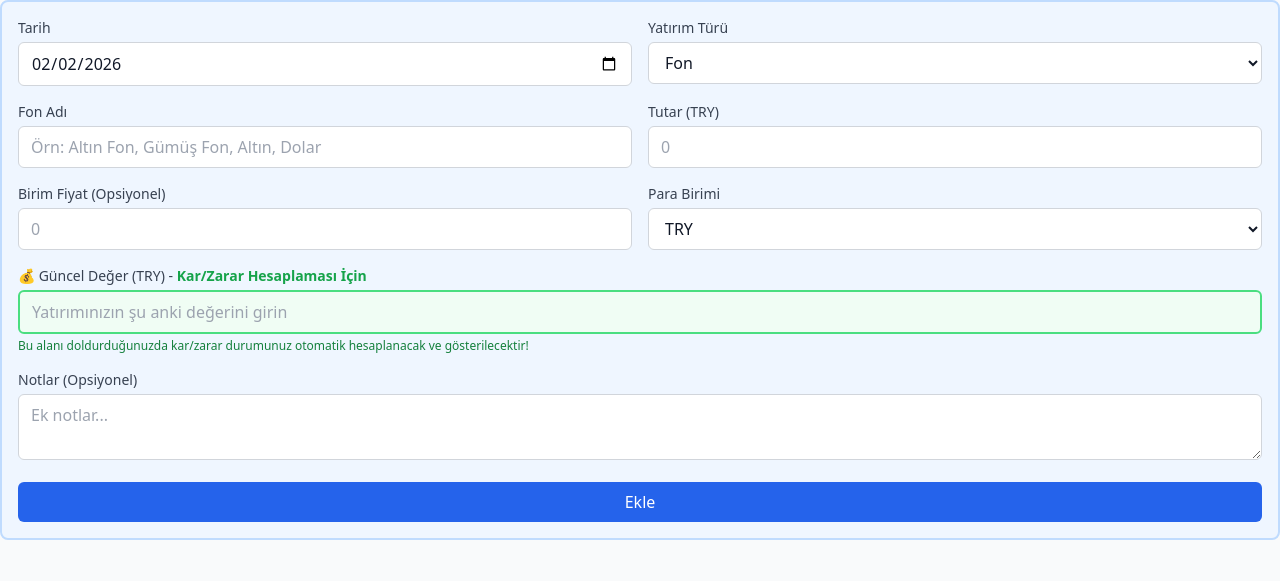
Test: InvestmentForm › should show validation errors for invalid input
The image size is (1280, 581).
Clear required fields to trigger validation
Step 1. Clear the field with placeholder "Örn: Altın Fon, Gümüş Fon, Altın, Dolar" → (325, 147), box [18,126,632,168]
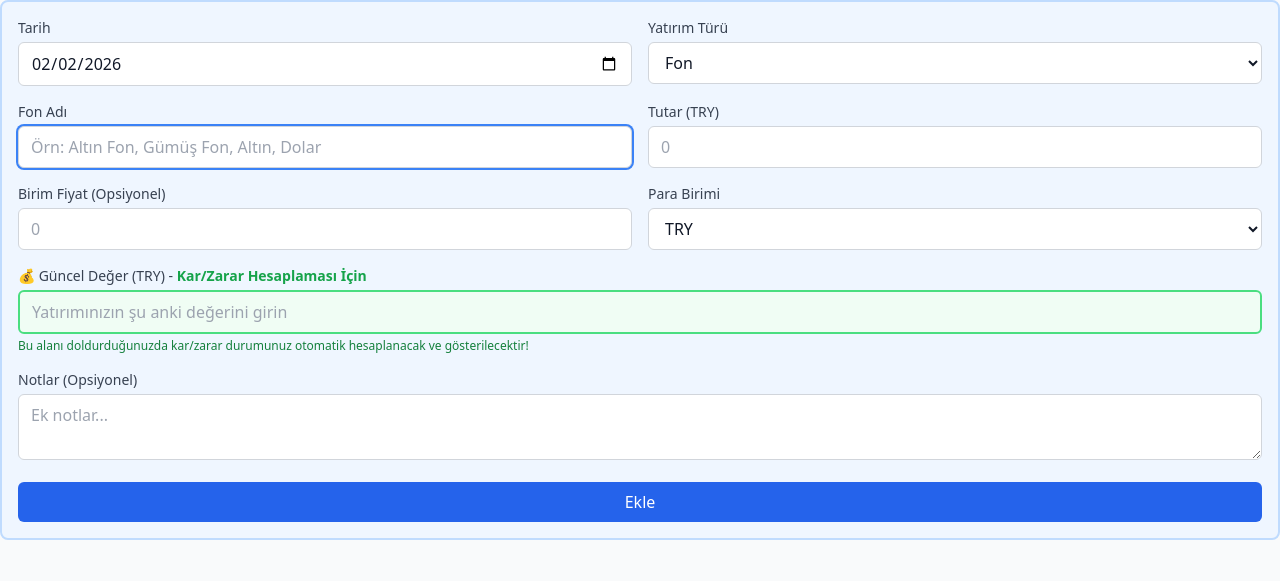
Step 2. Clear the number field labelled "Tutar (TRY)" → (955, 147), box [648,126,1262,168]
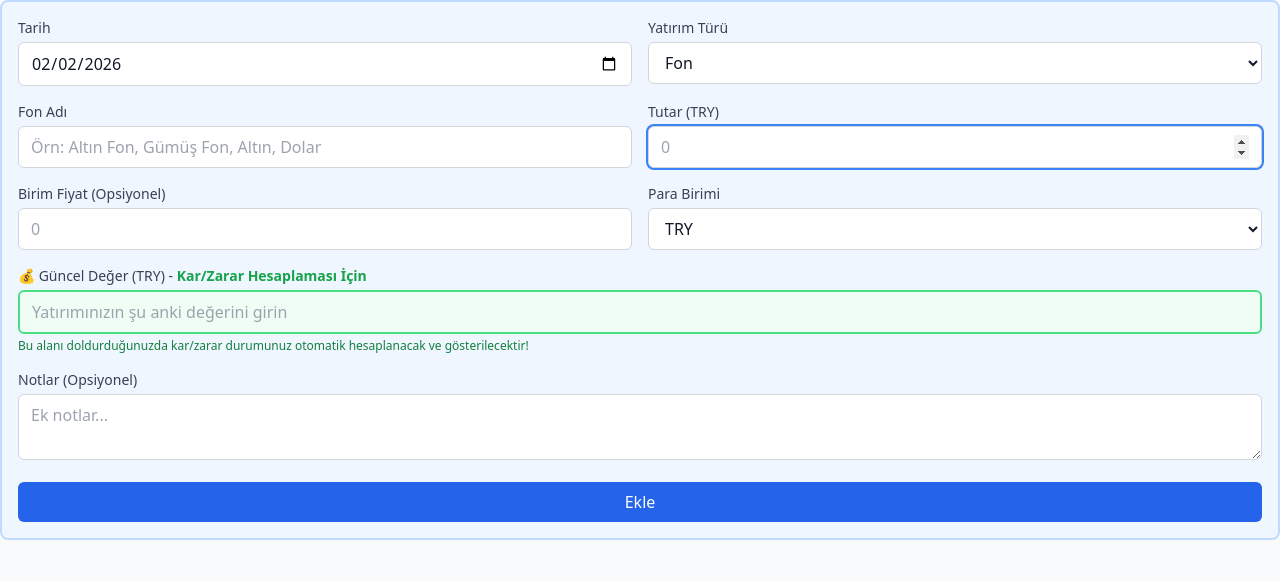
Step 3. Click the button "Ekle" → (640, 502), box [18,482,1262,522]
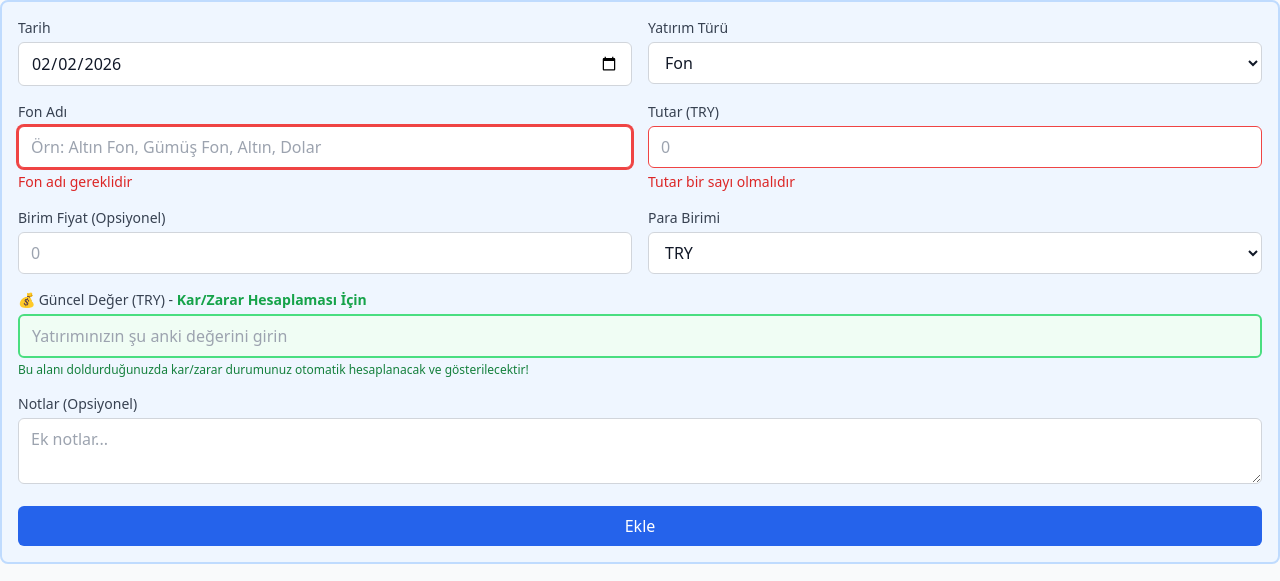
Now the text "Fon adı gereklidir" is shown, box [18,172,132,191]
